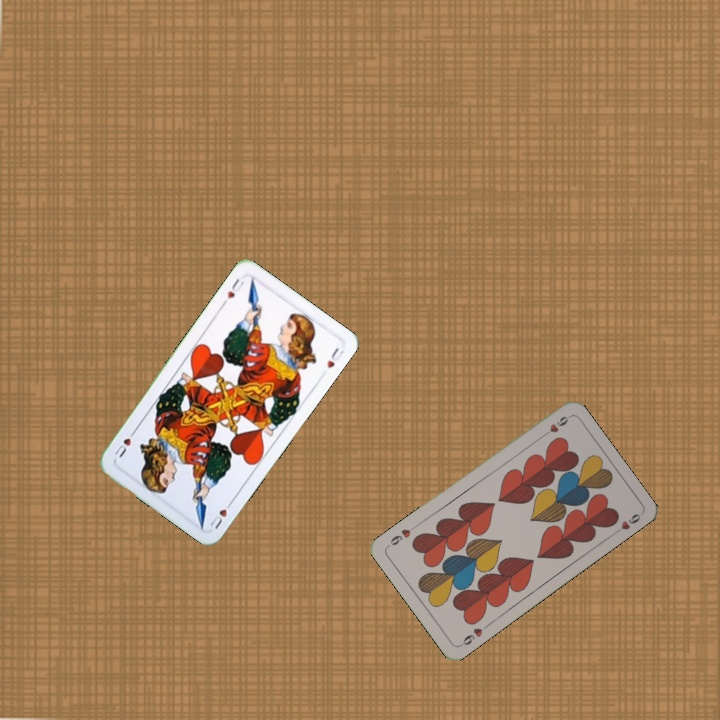H9: (456, 620, 491, 649), (537, 412, 573, 440)
HU: (205, 496, 236, 532), (218, 274, 247, 308)
